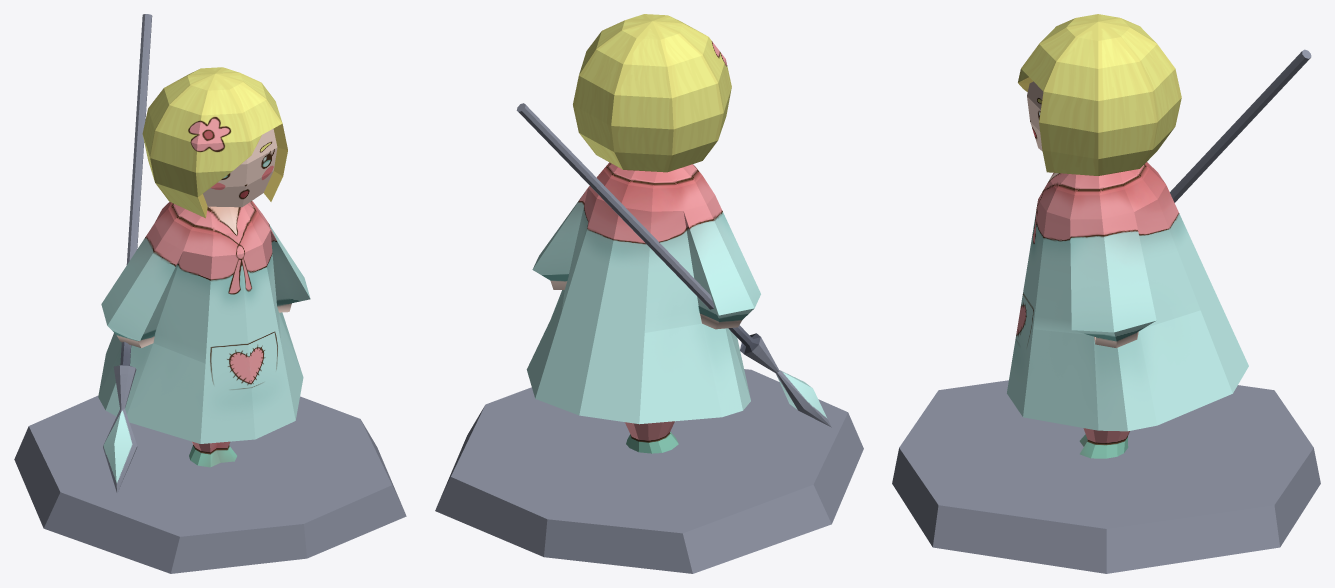
The model's file is Asset_Pawn_Nana.fbx.
3 renders of one model, left to right at view 1: azimuth 30°, elevation 25°; view 2: azimuth 150°, elevation 25°; view 3: azimuth 270°, elevation 25°, orthographic. The views are drawn at different scales.
Visible parts, largest first — view 1: Nana_Body, Nana_Stand; view 2: Nana_Body, Nana_Stand; view 3: Nana_Body, Nana_Stand.
Boxes of the visible parts, <box> form: Nana_Body: <box>98,14,310,493</box>; Nana_Stand: <box>14,395,406,573</box>; Nana_Body: <box>516,14,831,453</box>; Nana_Stand: <box>435,369,863,573</box>; Nana_Body: <box>1007,14,1311,458</box>; Nana_Stand: <box>892,380,1320,573</box>.
Bounding box in the file's own units: 32.69 × 39 × 32.78.
